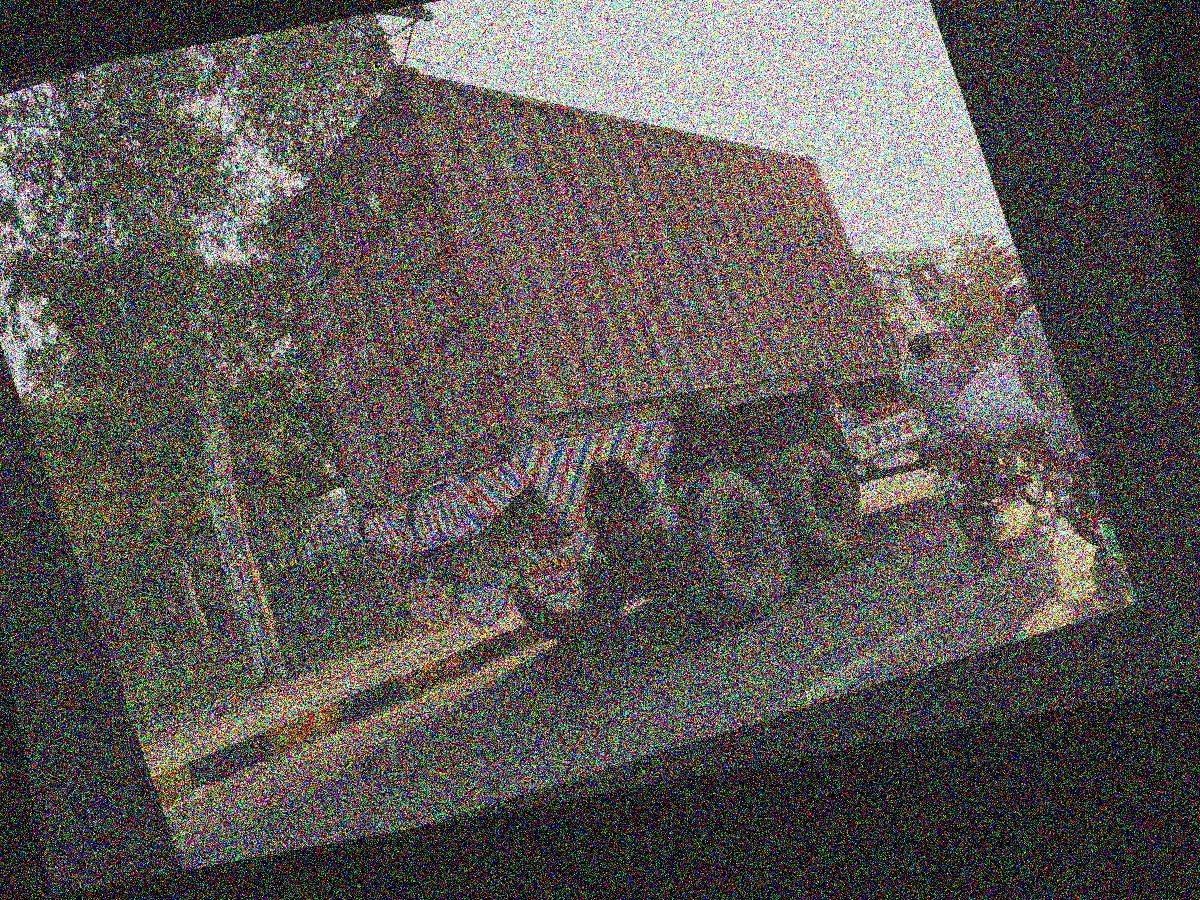truck: (197, 0, 1044, 736)
